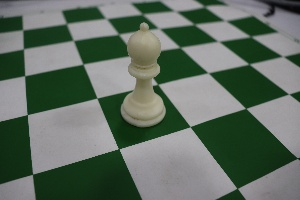white_bishop: (115, 14, 171, 131)
